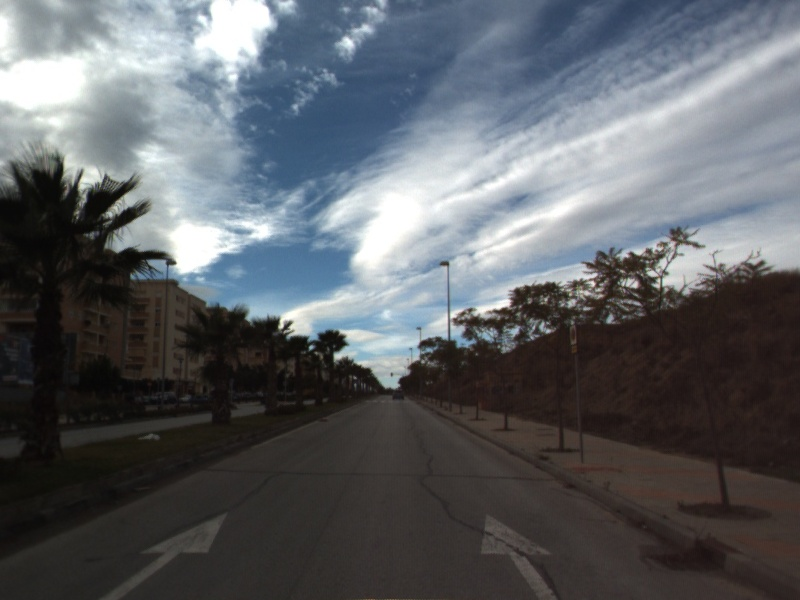STRAIGHT: (94, 510, 230, 600), (478, 511, 561, 600)
